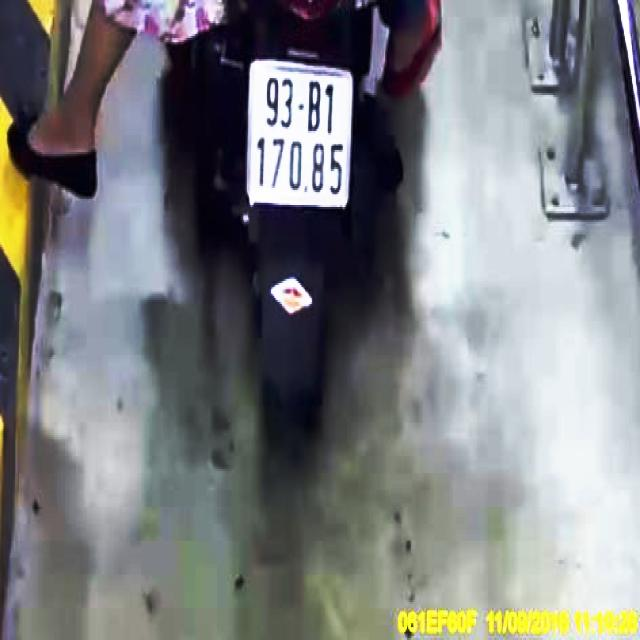license_plate: (251, 61, 354, 205)
